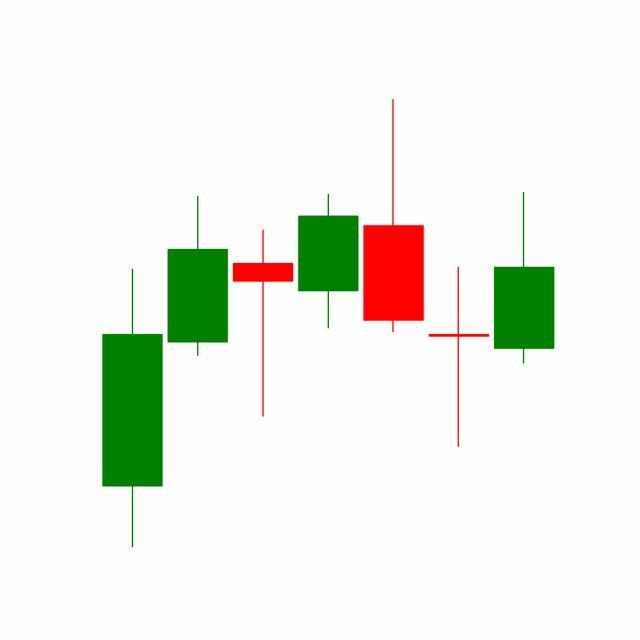Morning Star: (360, 99, 556, 451)
